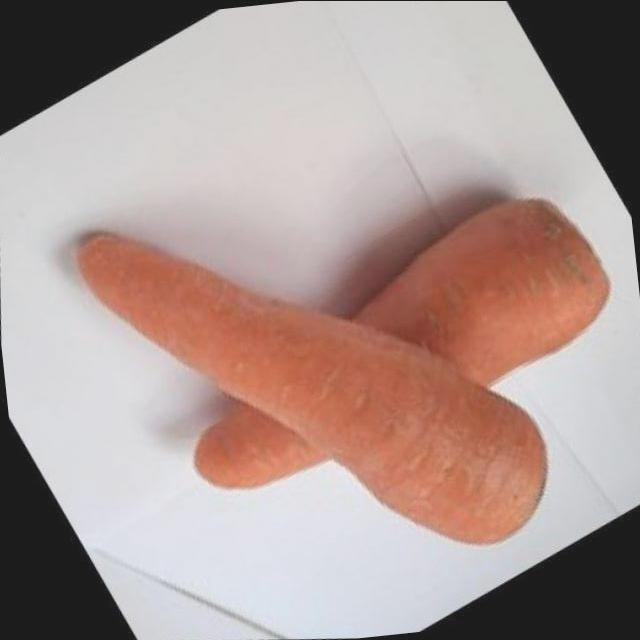carrot: (0, 35, 627, 640), (91, 119, 640, 606)
